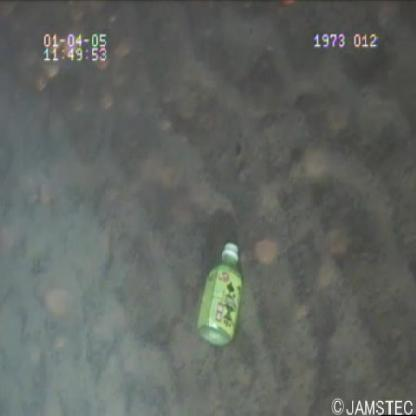Rác: (195, 237, 250, 357)
